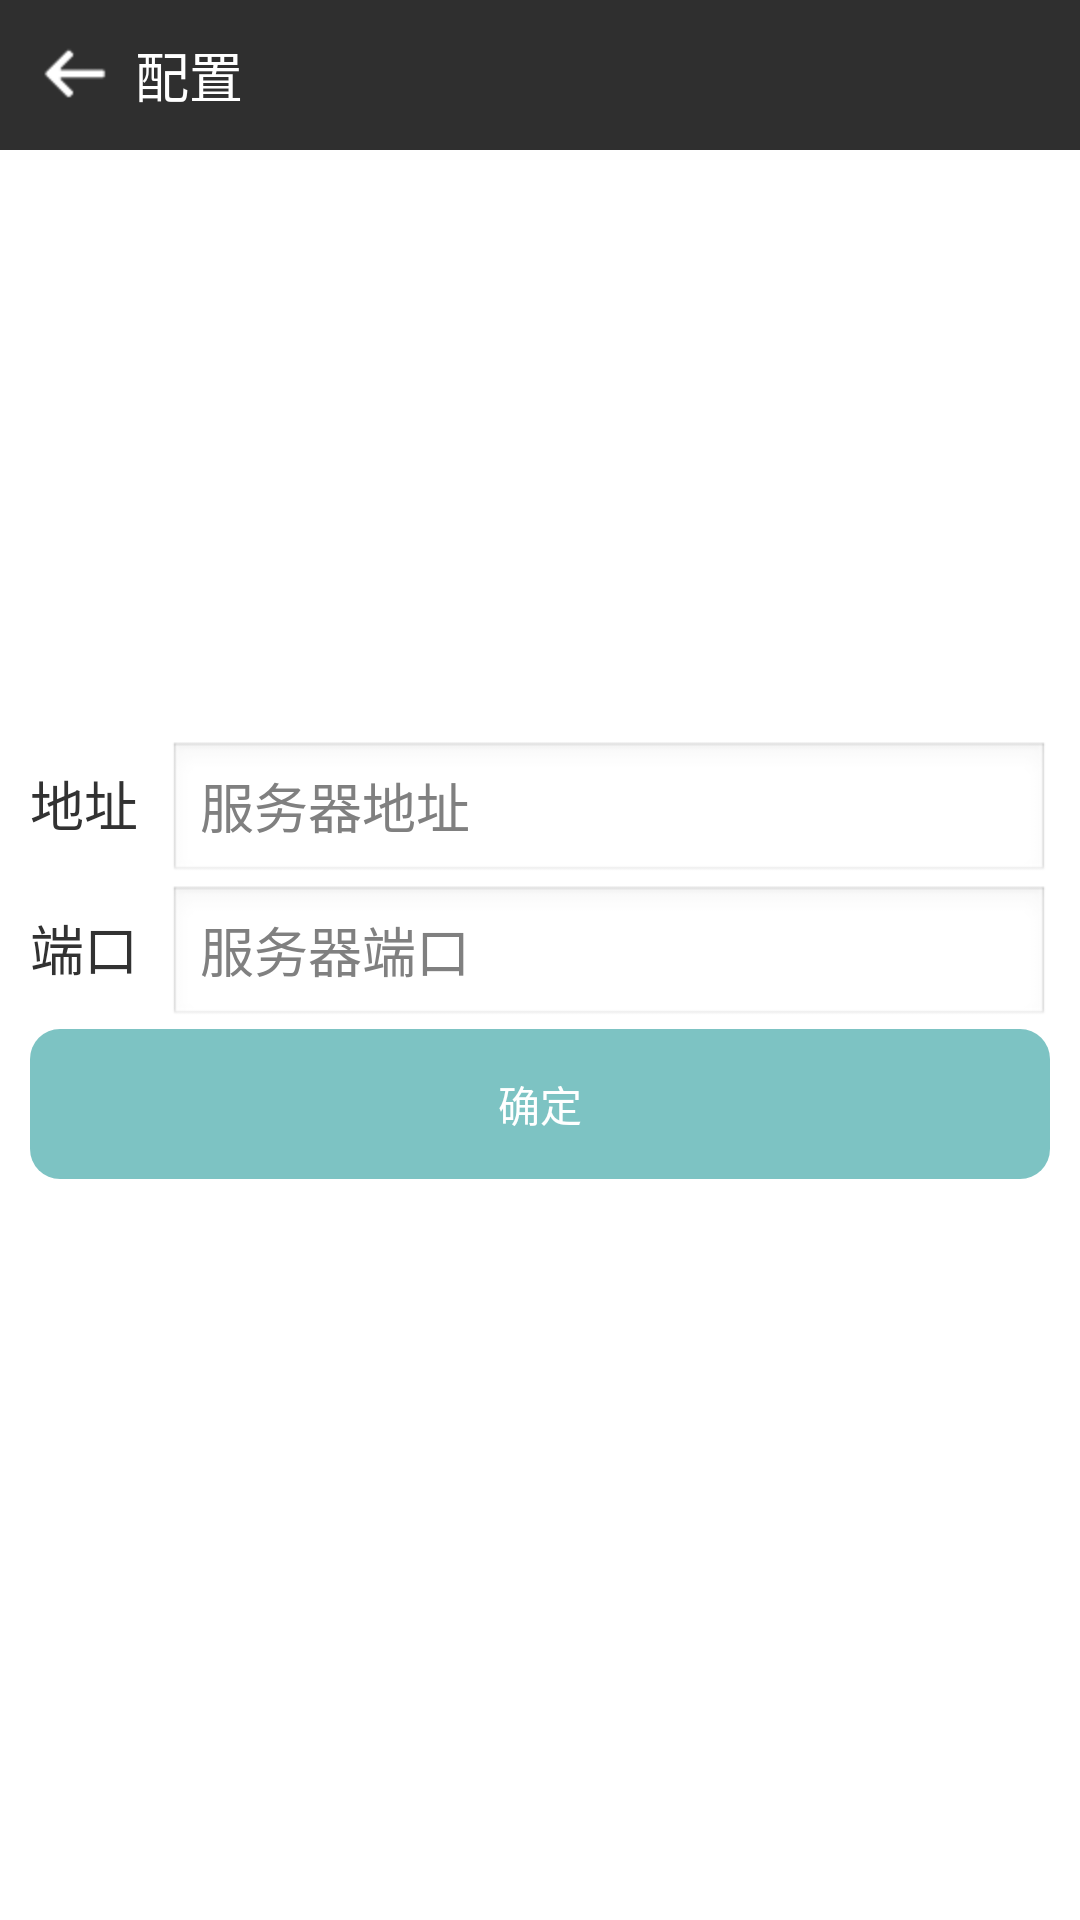

Named icons in this screenshot (1080px x 1920px) and their bounding boxes, (x1, y1, x2, y2):
返回: (44, 49, 106, 98)
